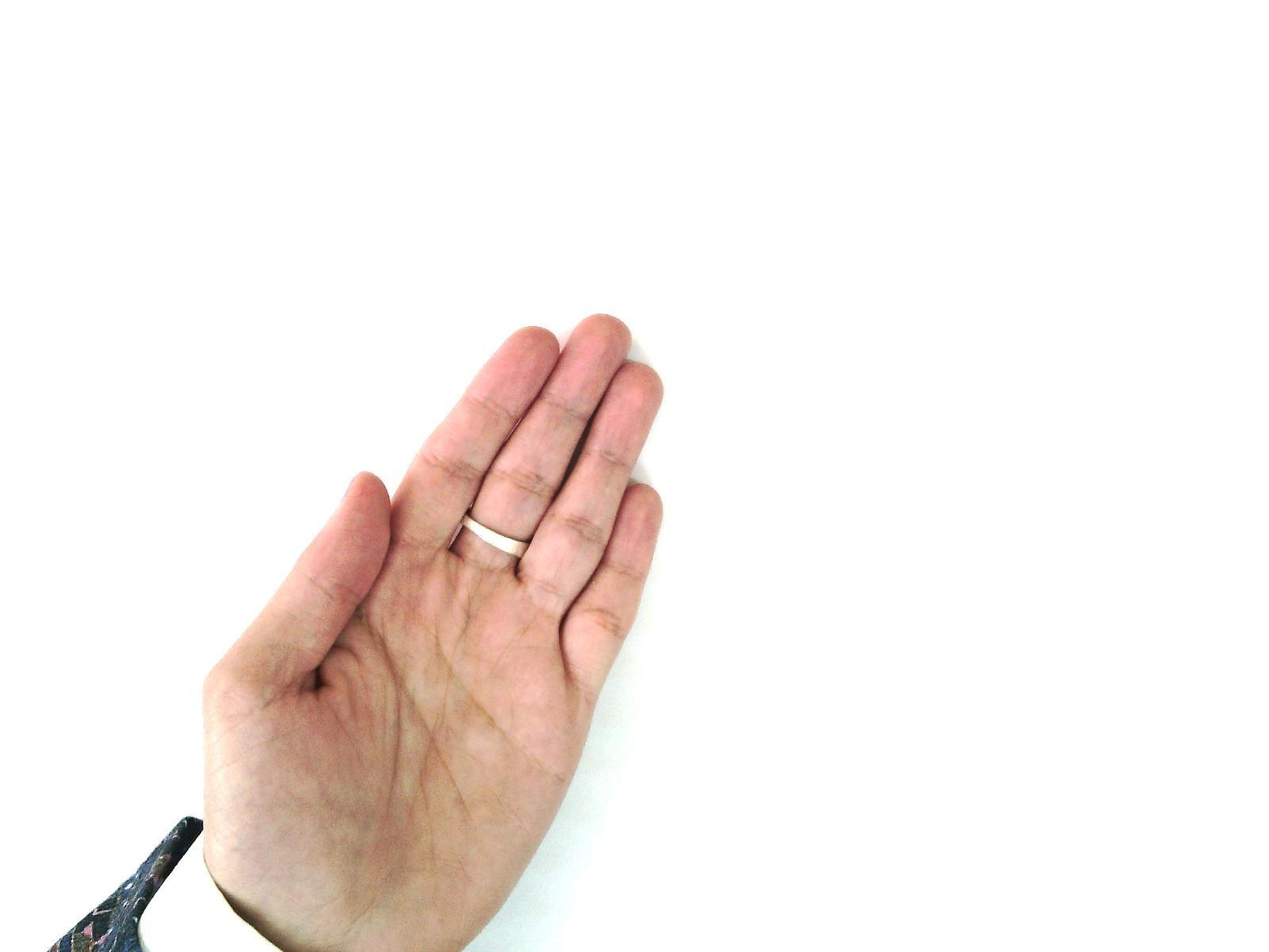open_palm: (198, 312, 669, 951)
